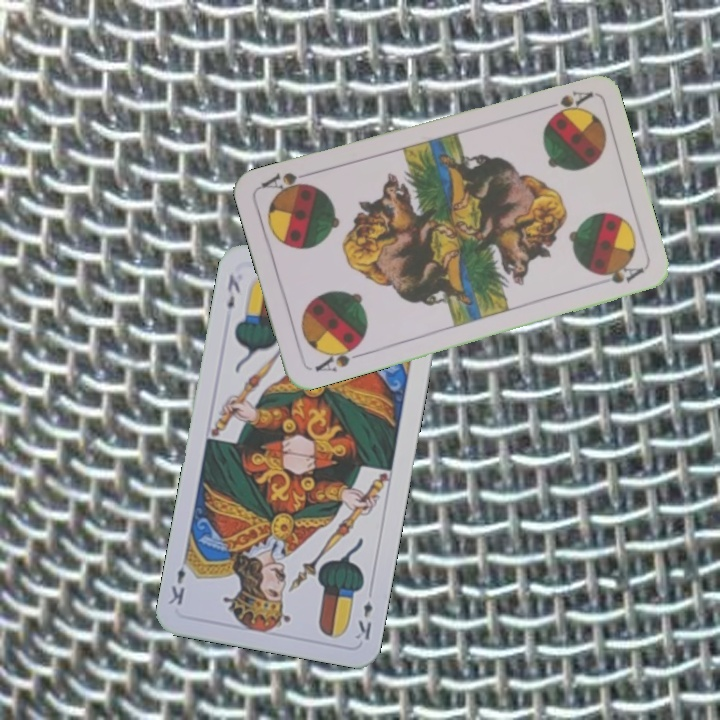EK: (352, 597, 375, 643), (223, 270, 243, 312)
SA: (311, 339, 367, 375), (536, 86, 594, 119)
